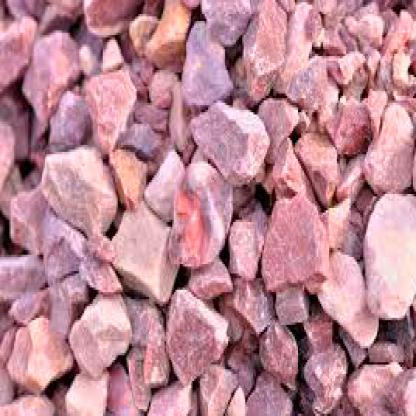Metamorphic_Quartize: (30, 124, 127, 238), (258, 180, 332, 299), (354, 189, 415, 325), (166, 280, 236, 390), (197, 91, 275, 189), (110, 199, 179, 306), (172, 11, 239, 114), (66, 287, 136, 381), (286, 47, 344, 133)
